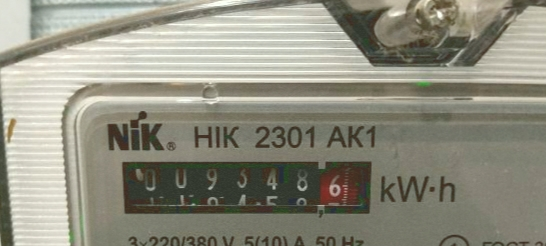0: (172, 164, 187, 187), (142, 164, 155, 190)
3: (233, 163, 247, 189)
4: (263, 163, 277, 190)
6: (325, 169, 342, 196)
8: (293, 164, 308, 192)
9: (202, 164, 217, 190)
screen: (111, 151, 380, 221)
